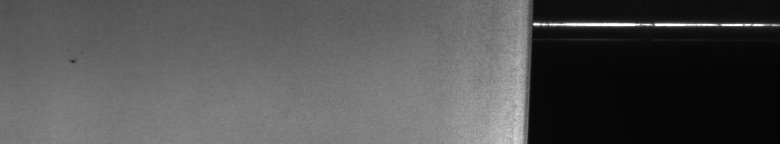fi: (67, 57, 77, 68)
